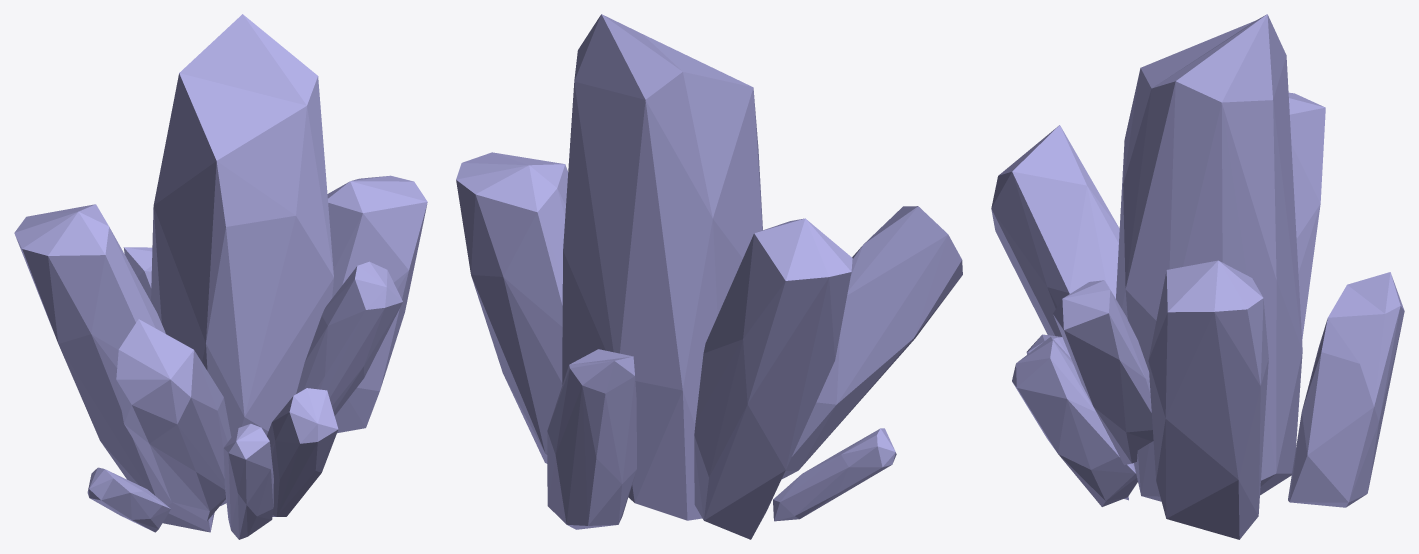
Rendered from CrystalGroup_01.fbx.
3 renders of one model, left to right at view 1: azimuth 30°, elevation 25°; view 2: azimuth 150°, elevation 25°; view 3: azimuth 270°, elevation 25°, orthographic. The views are drawn at different scales.
Visible parts, largest first — view 1: Crystal_Group; view 2: Crystal_Group; view 3: Crystal_Group.
Boxes of the visible parts, x1,y1,x2,y2 form: Crystal_Group: (14,14,427,539); Crystal_Group: (456,14,962,539); Crystal_Group: (991,14,1404,539).
Size of the model in its own units: 4.14 by 4.97 by 3.45.
